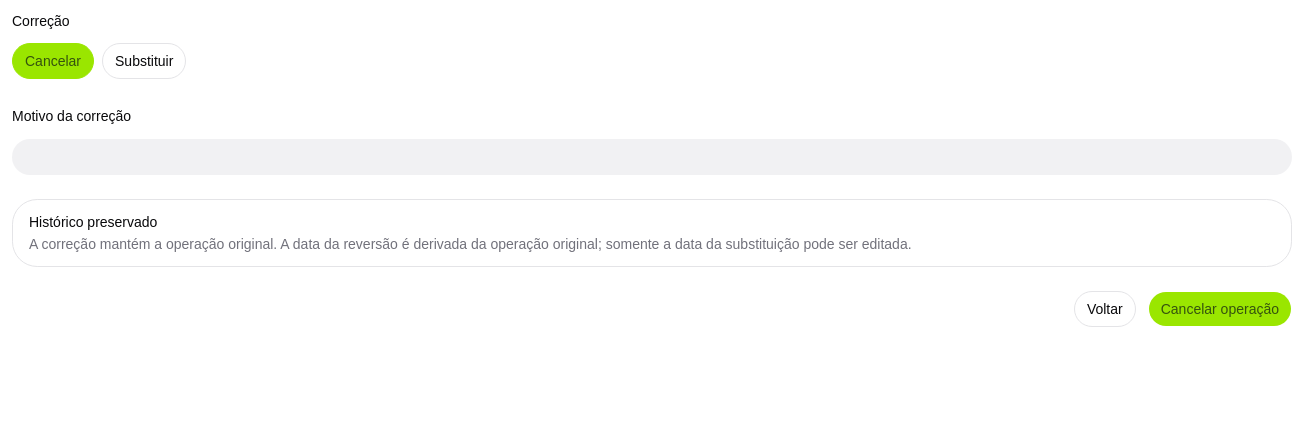
Test: InvestmentCorrectionForm › blocks cancellation without a reason
What coordinates should you click on to do the following:
click the button "Cancelar operação"
I would click on:
 (1220, 308)
Its box is [1148,290,1292,326].
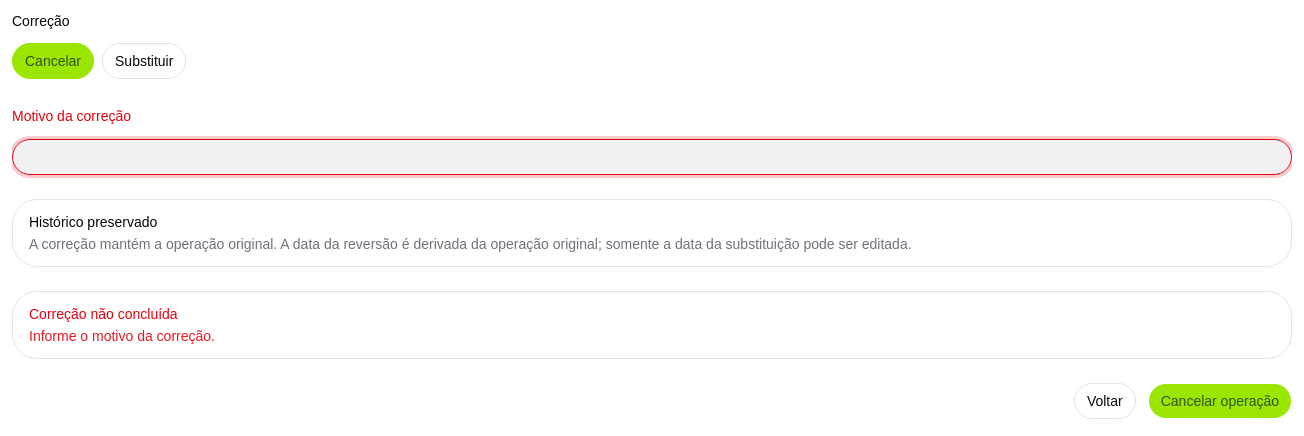
Check: the text "Informe o motivo da correção." is shown, box [29,328,215,344]
